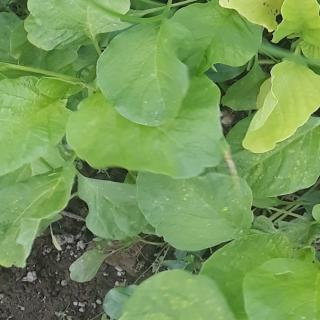karat_putih: (124, 271, 232, 320), (160, 176, 252, 224), (228, 141, 320, 189)
kekurangan_mangan: (237, 56, 320, 156), (215, 0, 320, 32)
virus_keriting: (0, 180, 62, 270)
